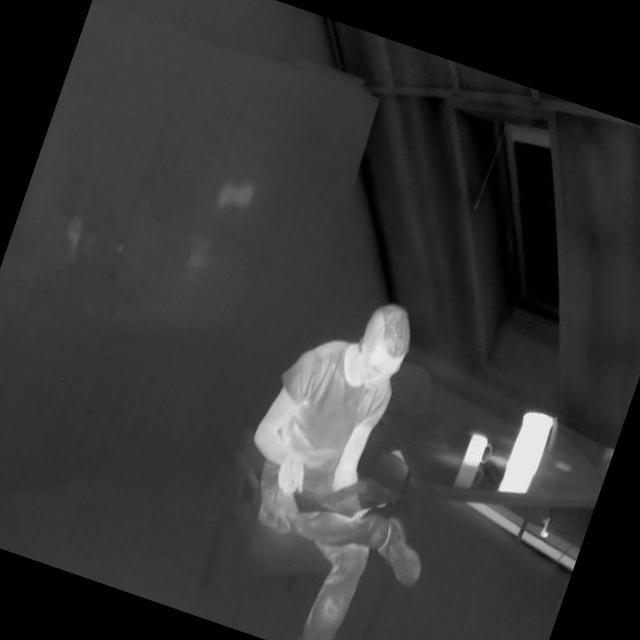person: (191, 271, 506, 640)
